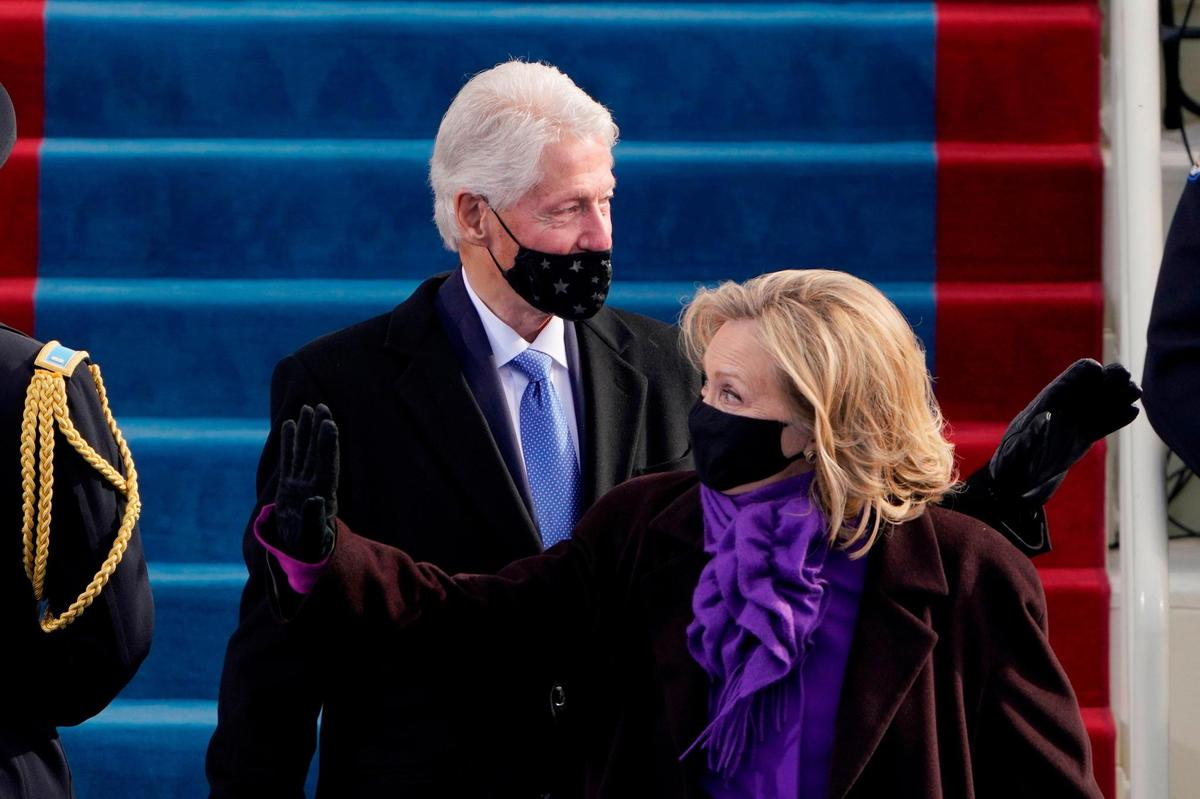with_incorrect_mask: (512, 152, 620, 330)
with_mask: (688, 340, 805, 491)
